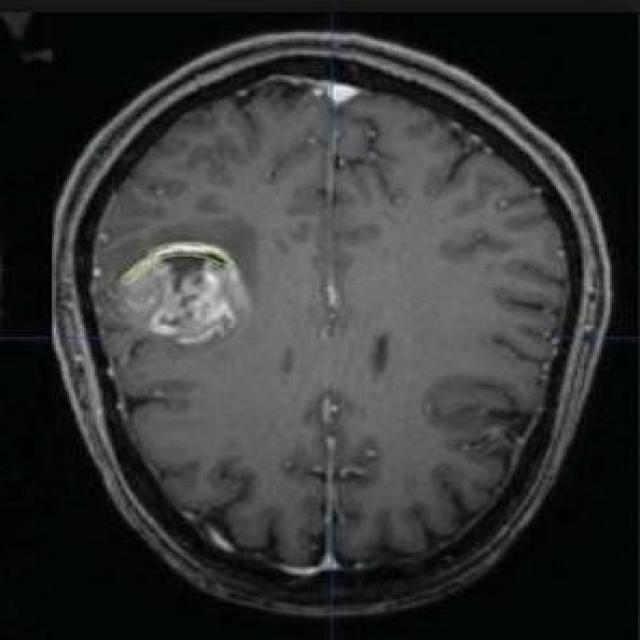Tumor: (111, 241, 252, 350)
